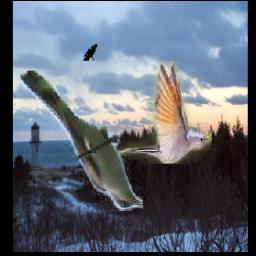Crow: (83, 43, 97, 61)
Cuckoo: (18, 72, 143, 212), (118, 62, 213, 165)
